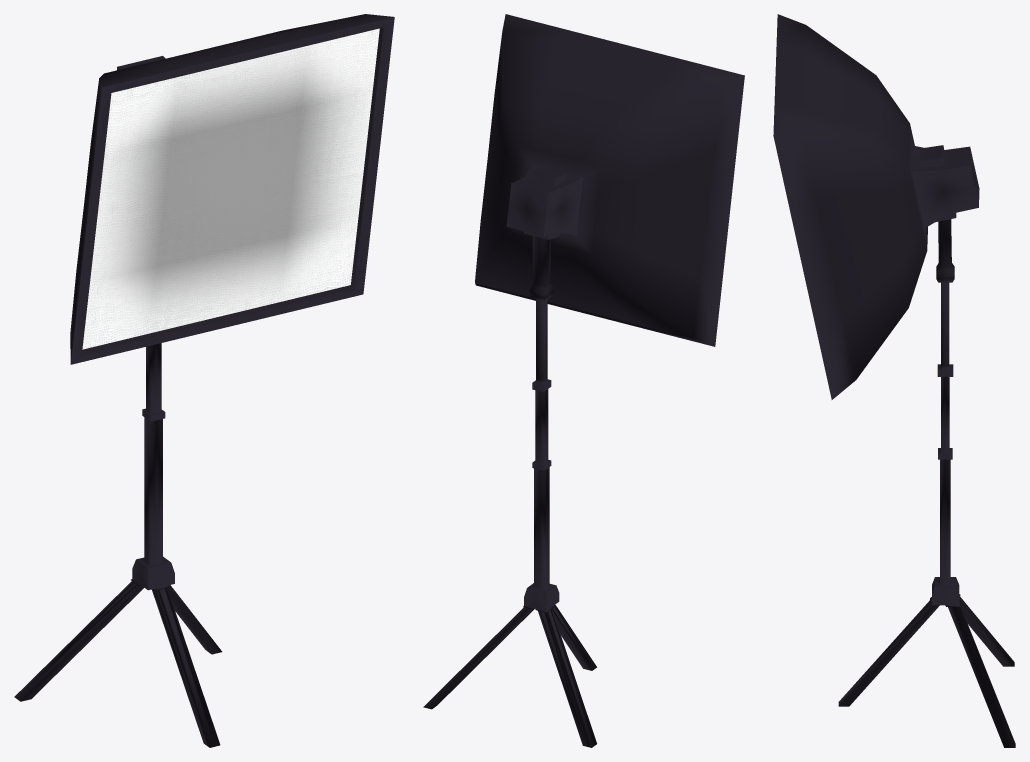
File: Lamp1.fbx
3 renders of one model, left to right at view 1: azimuth 30°, elevation 25°; view 2: azimuth 150°, elevation 25°; view 3: azimuth 270°, elevation 25°, orthographic. The views are drawn at different scales.
Visible parts, largest first — view 1: Cube.001; view 2: Cube.001; view 3: Cube.001.
Part boxes in pixels (x1,y1,x2,y2): Cube.001: [14, 14, 394, 747]; Cube.001: [423, 14, 744, 747]; Cube.001: [773, 14, 1015, 747].
Bounding box in the file's own units: 2.13 × 5.02 × 1.75.
